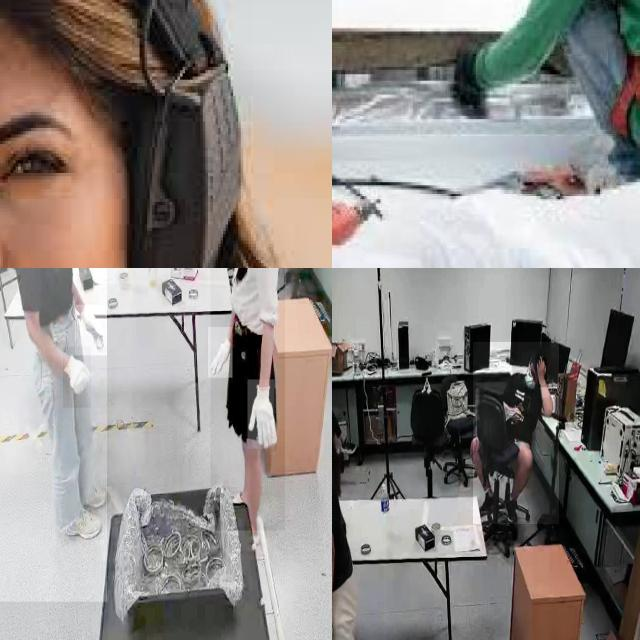Ear-protection: (3, 0, 254, 268)
hand_glove: (247, 380, 275, 450), (63, 346, 91, 408), (75, 305, 107, 355), (208, 327, 233, 379)
hand_noglove: (535, 354, 547, 376), (538, 358, 547, 387)
head_nohelmet: (530, 348, 548, 373)
person: (0, 268, 107, 602), (210, 268, 285, 531), (473, 342, 559, 525), (332, 361, 384, 640)
shoes: (60, 502, 100, 546), (74, 476, 108, 510), (338, 427, 357, 464)
